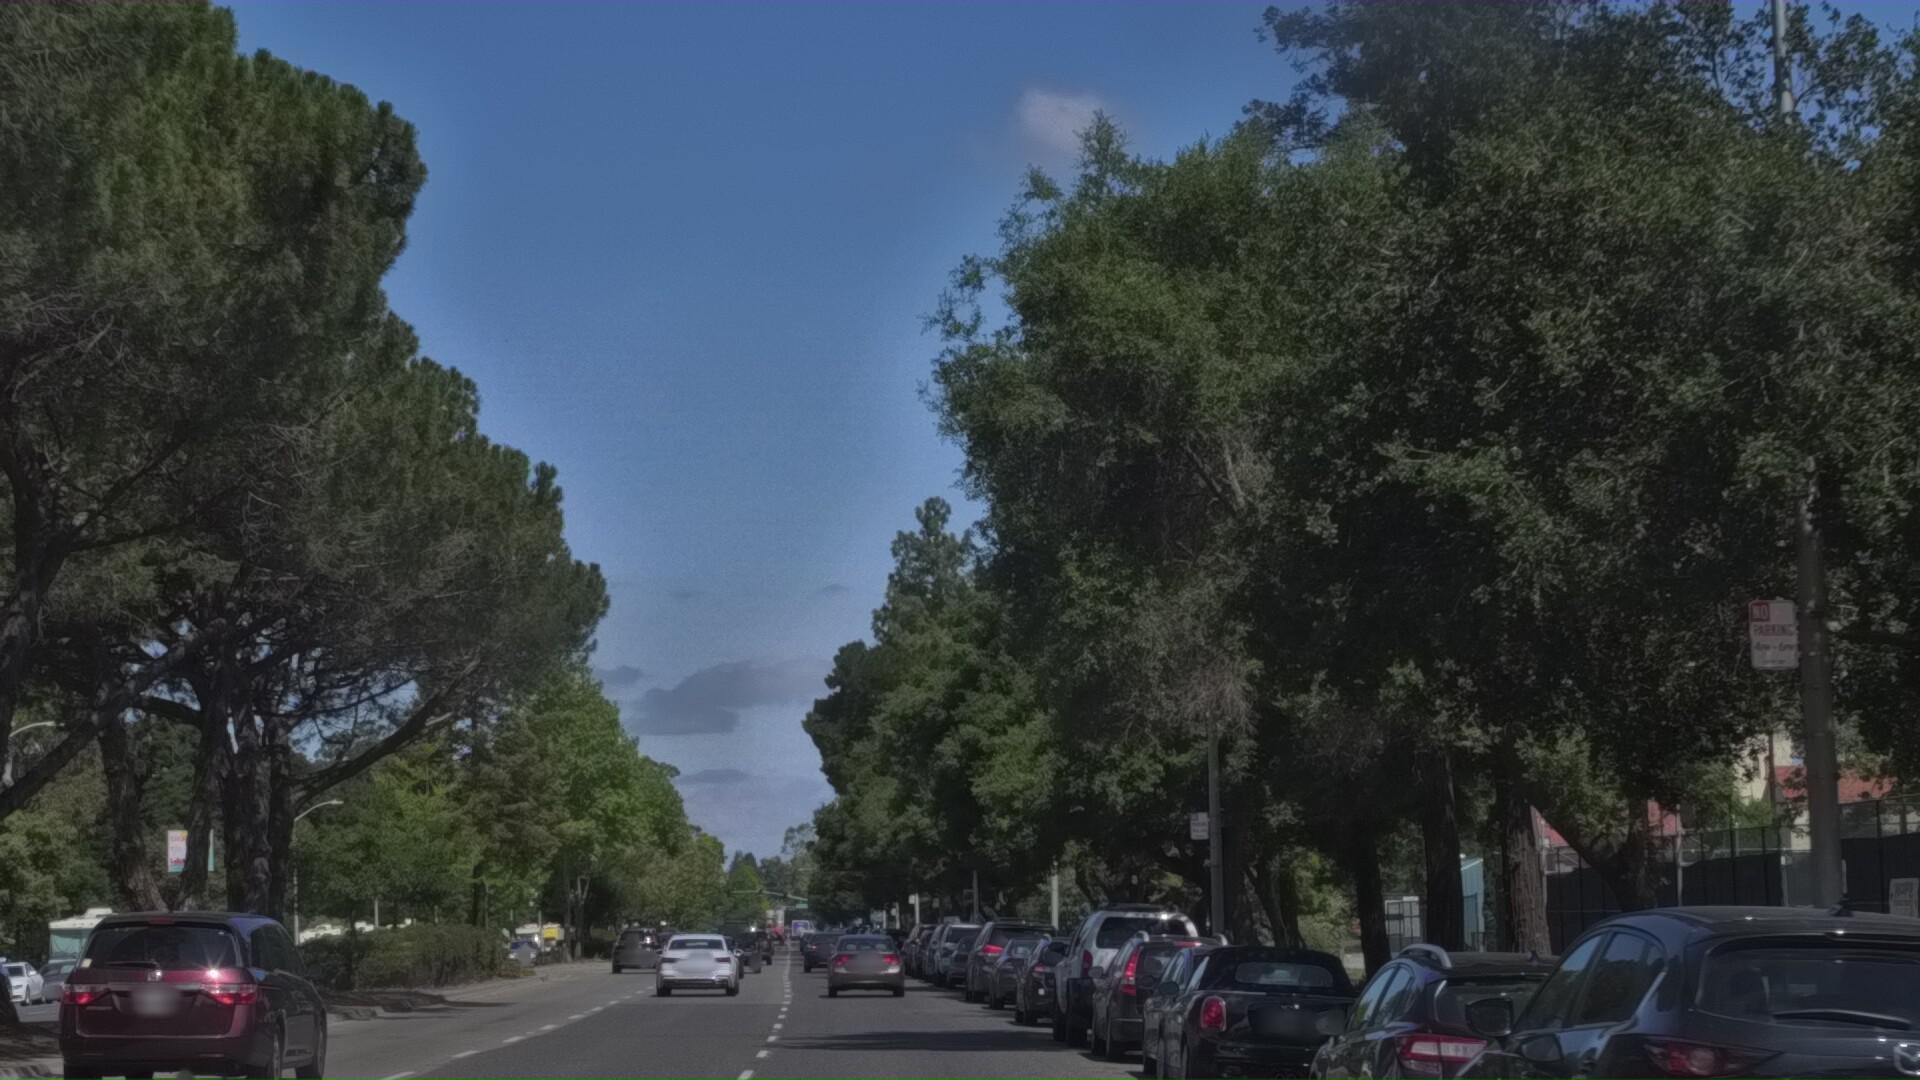car: (1415, 886, 1920, 1080), (1288, 940, 1753, 1080), (58, 936, 348, 1080), (1051, 913, 1233, 1077), (1153, 959, 1398, 1080), (1134, 949, 1354, 1080), (1091, 940, 1265, 1080), (1017, 945, 1143, 1058), (967, 931, 1080, 1030), (990, 952, 1095, 1036), (825, 967, 916, 1062), (657, 967, 748, 1051)
